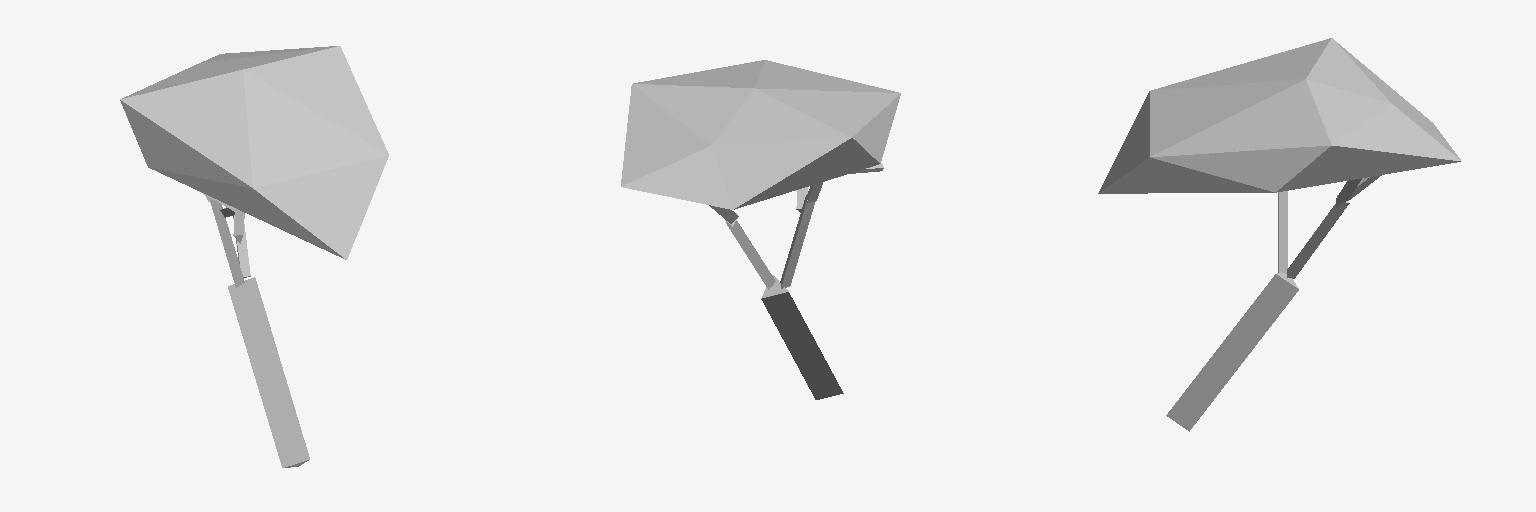
File: bendyTreeCollider.obj
3 views of the same model, side by side, from view 1: azimuth 30°, elevation 25°; view 2: azimuth 150°, elevation 25°; view 3: azimuth 270°, elevation 25° (orthographic).
Visible parts, largest first — view 1: Icosphere.001_Icosphere, Cylinder, Cylinder.002; view 2: Icosphere.001_Icosphere, Cylinder, Cylinder.002, Cylinder.001; view 3: Icosphere.001_Icosphere, Cylinder, Cylinder.001, Cylinder.002.
Part boxes in pixels (x1,y1,x2,y2): Icosphere.001_Icosphere: (120, 46, 388, 259); Cylinder: (228, 277, 309, 467); Cylinder.002: (210, 199, 244, 287); Icosphere.001_Icosphere: (621, 60, 900, 209); Cylinder: (761, 275, 843, 399); Cylinder.002: (780, 194, 815, 288); Cylinder.001: (725, 220, 775, 289); Icosphere.001_Icosphere: (1098, 38, 1461, 193); Cylinder: (1166, 272, 1298, 431); Cylinder.001: (1287, 201, 1349, 278); Cylinder.002: (1278, 191, 1287, 273).
Bounding box in the file's own units: 2.3 × 3.53 × 3.29.